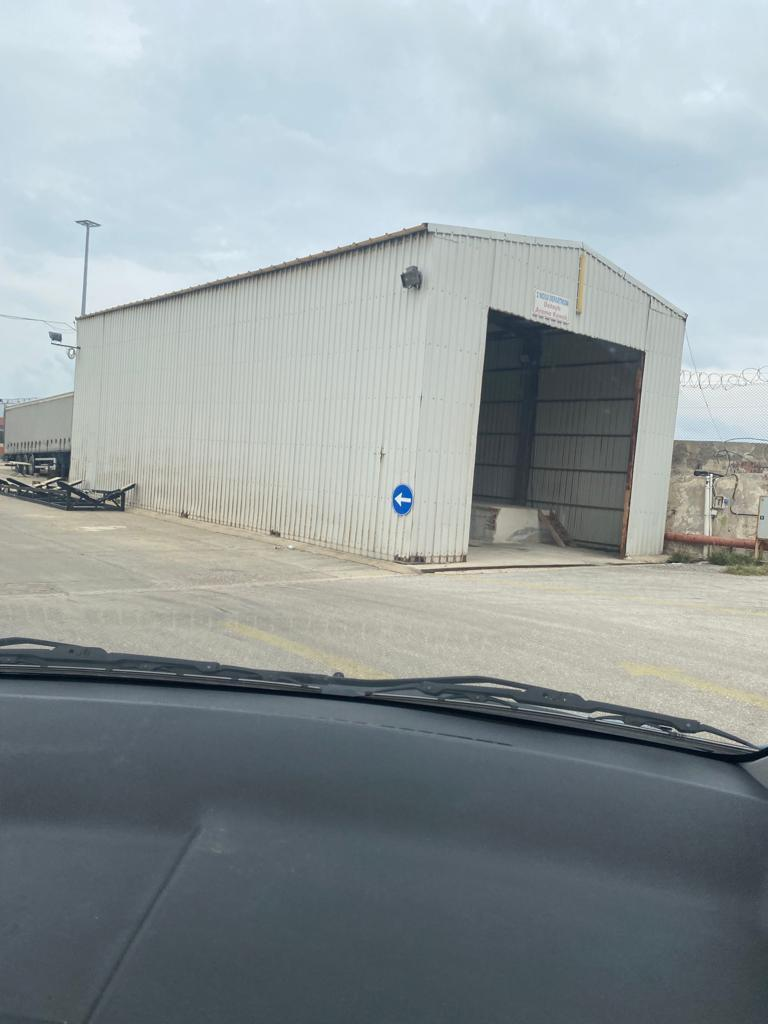turnleft: (392, 486, 413, 516)
